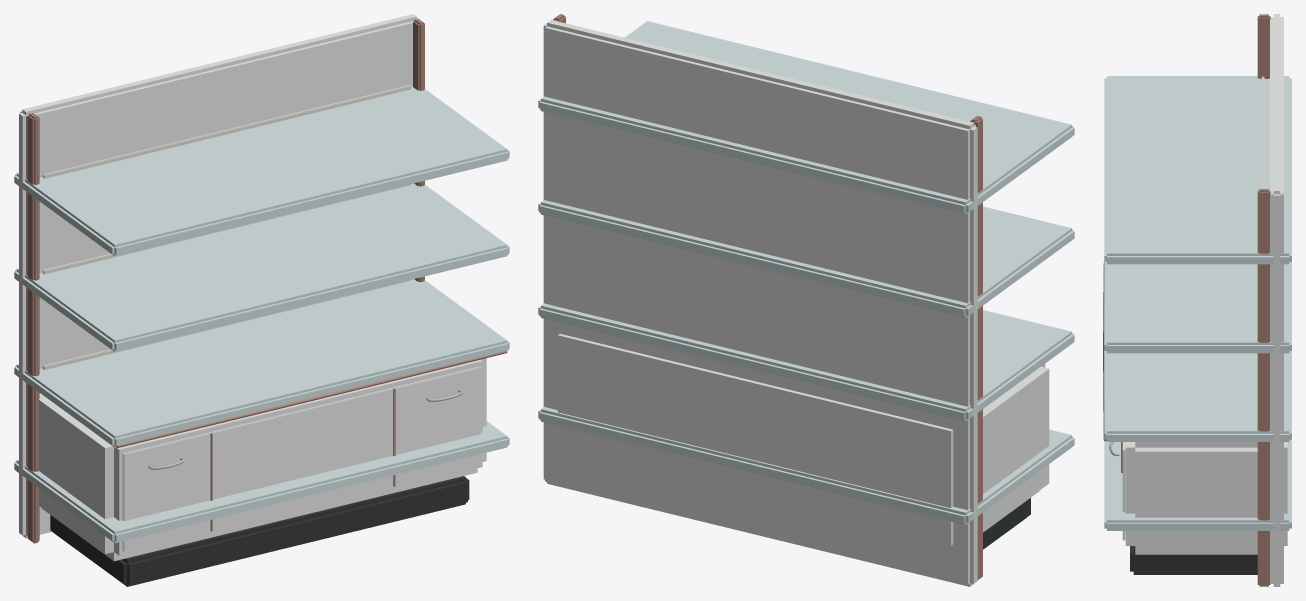
File: fixture_beauty_wall.glb
3 views of the same model, side by side, from view 1: azimuth 30°, elevation 25°; view 2: azimuth 150°, elevation 25°; view 3: azimuth 270°, elevation 25° (orthographic). The views are drawn at different scales.
Visible parts, largest first — view 1: fixture_beauty_wall_FY21_frosted_glass_shelf, fixture_beauty_wall_FY21_porcelain_joinery, fixture_beauty_wall_Anodised_graphite, fixture_beauty_wall_FY21_beauty_brushed_rose, fixture_beauty_wall_Warm_white_coating; view 2: fixture_beauty_wall_FY21_porcelain_joinery, fixture_beauty_wall_FY21_frosted_glass_shelf, fixture_beauty_wall_FY21_beauty_brushed_rose, fixture_beauty_wall_Anodised_graphite; view 3: fixture_beauty_wall_FY21_frosted_glass_shelf, fixture_beauty_wall_FY21_porcelain_joinery, fixture_beauty_wall_FY21_beauty_brushed_rose, fixture_beauty_wall_Anodised_graphite, fixture_beauty_wall_Warm_white_coating.
Boxes of the visible parts, left/top/right/bottom form: fixture_beauty_wall_FY21_frosted_glass_shelf: left=14, top=86, right=509, bottom=543; fixture_beauty_wall_FY21_porcelain_joinery: left=19, top=14, right=486, bottom=561; fixture_beauty_wall_Anodised_graphite: left=50, top=476, right=469, bottom=586; fixture_beauty_wall_FY21_beauty_brushed_rose: left=27, top=19, right=507, bottom=543; fixture_beauty_wall_Warm_white_coating: left=42, top=85, right=411, bottom=369; fixture_beauty_wall_FY21_porcelain_joinery: left=543, top=19, right=1049, bottom=586; fixture_beauty_wall_FY21_frosted_glass_shelf: left=538, top=21, right=1074, bottom=524; fixture_beauty_wall_FY21_beauty_brushed_rose: left=553, top=14, right=982, bottom=579; fixture_beauty_wall_Anodised_graphite: left=983, top=498, right=1030, bottom=549; fixture_beauty_wall_FY21_frosted_glass_shelf: left=1104, top=76, right=1291, bottom=530; fixture_beauty_wall_FY21_porcelain_joinery: left=1122, top=14, right=1287, bottom=586; fixture_beauty_wall_FY21_beauty_brushed_rose: left=1103, top=14, right=1270, bottom=586; fixture_beauty_wall_Anodised_graphite: left=1130, top=546, right=1257, bottom=574; fixture_beauty_wall_Warm_white_coating: left=1261, top=76, right=1264, bottom=188.
Size of the model in its own units: 2 by 2.05 by 0.886.
